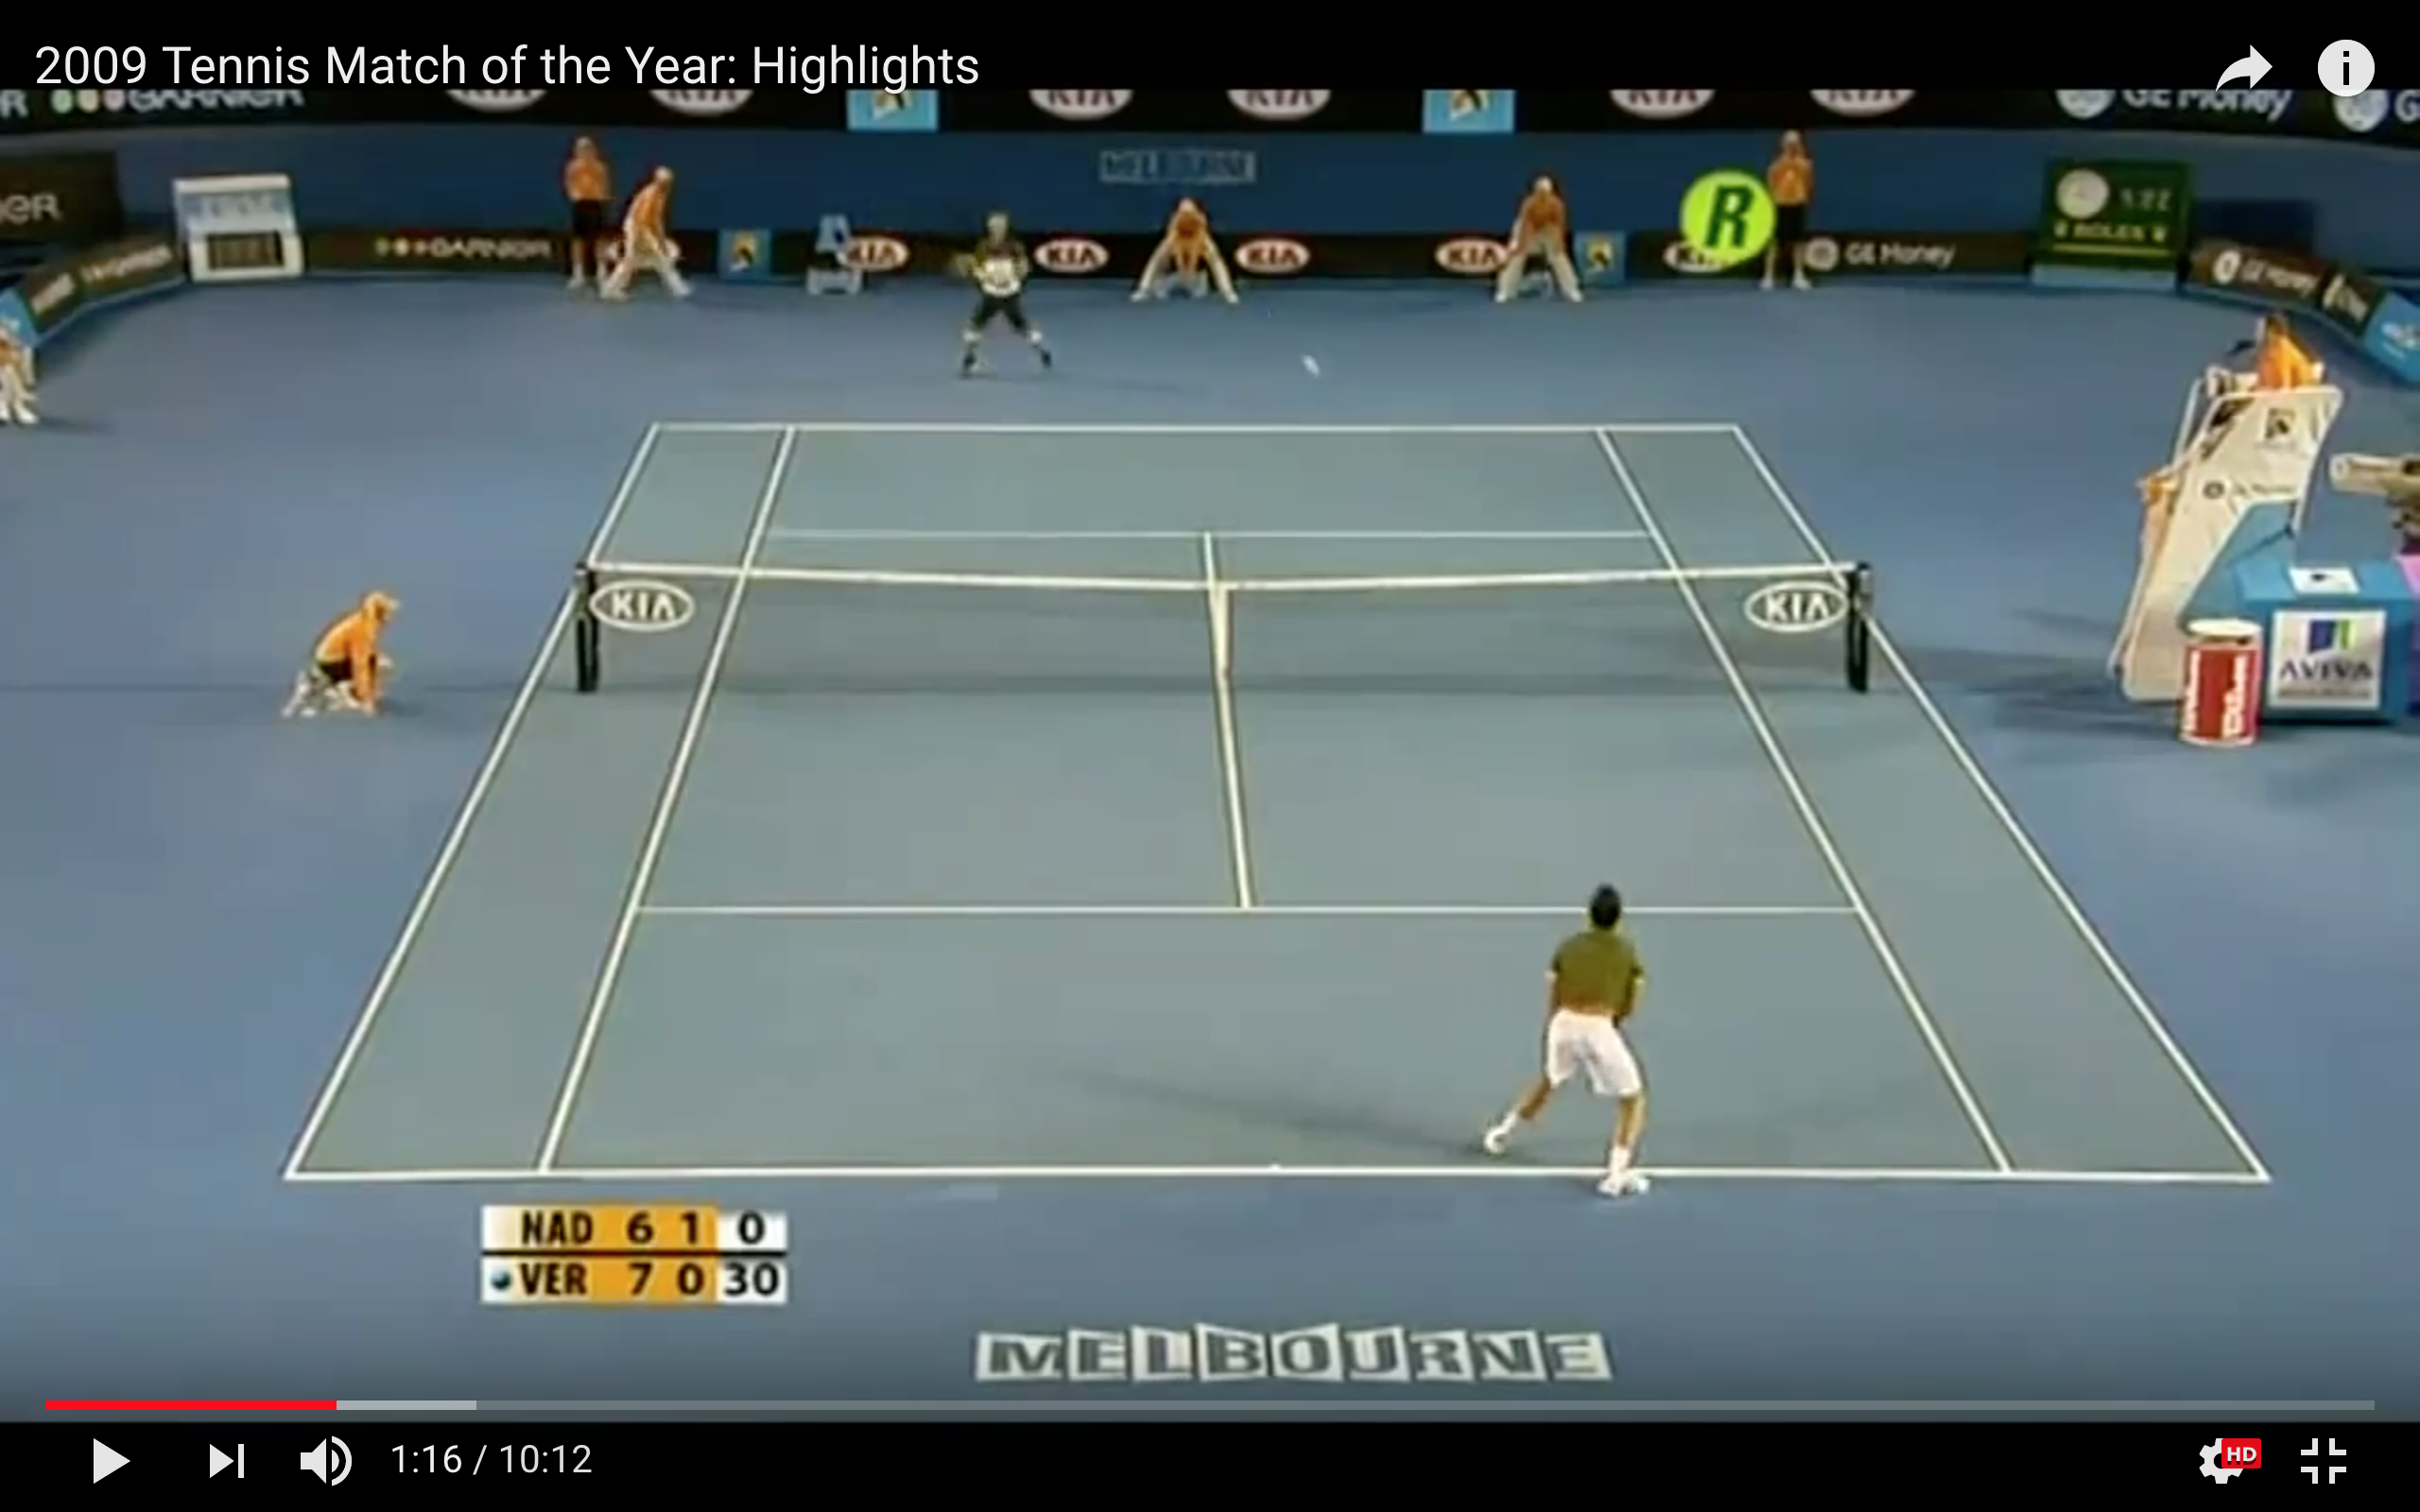tennis ball: (1288, 354, 1337, 382)
tennis player: (1487, 878, 1659, 1200), (951, 205, 1060, 381)
